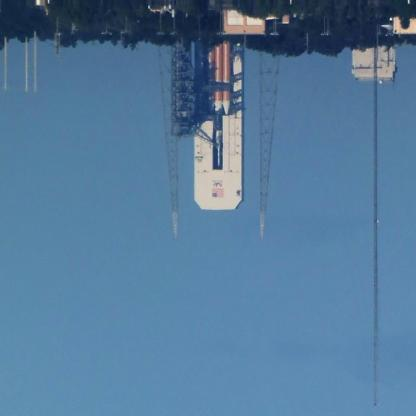MIL_TBM: (221, 44, 231, 115), (214, 42, 224, 112)
